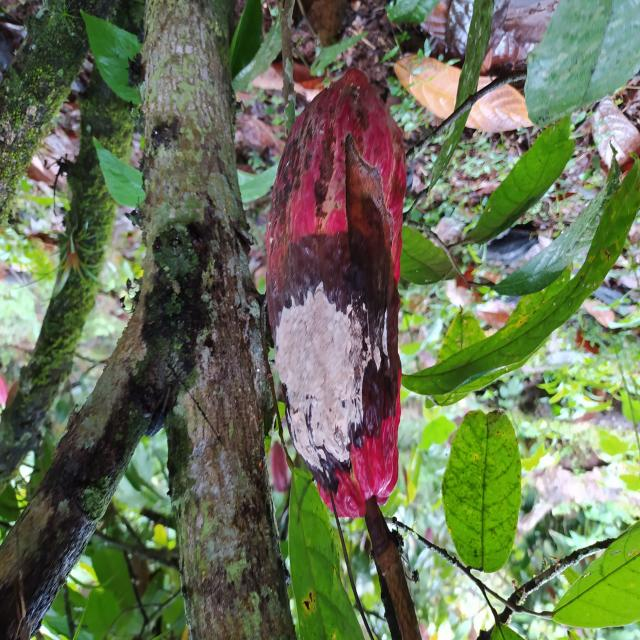Monilia: (266, 65, 408, 518)
